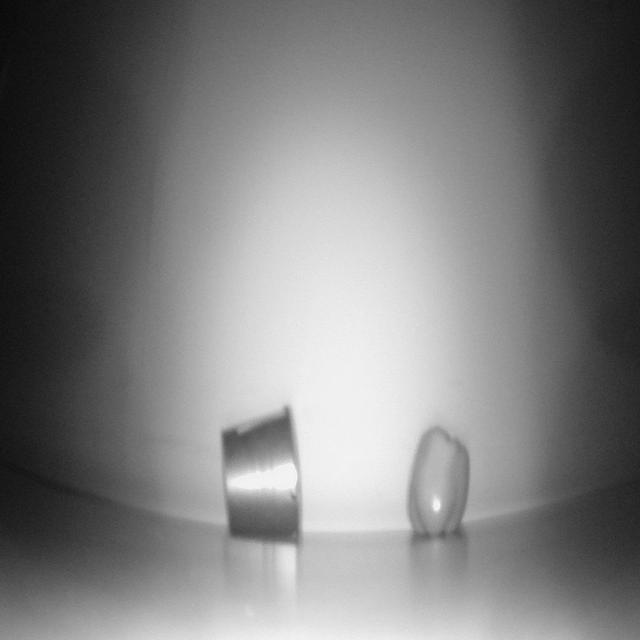targets: (218, 402, 304, 539), (411, 423, 468, 544)
